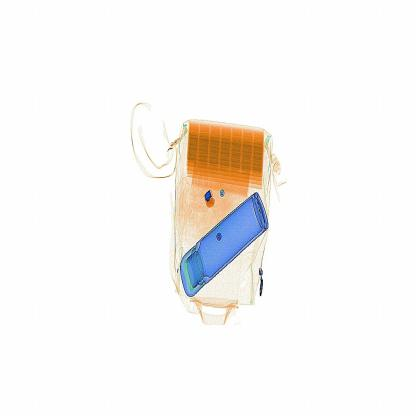wrench: (198, 184, 219, 216)
